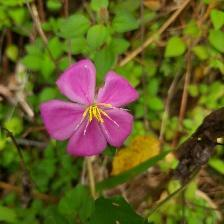malabar melastome: (40, 56, 138, 160)
